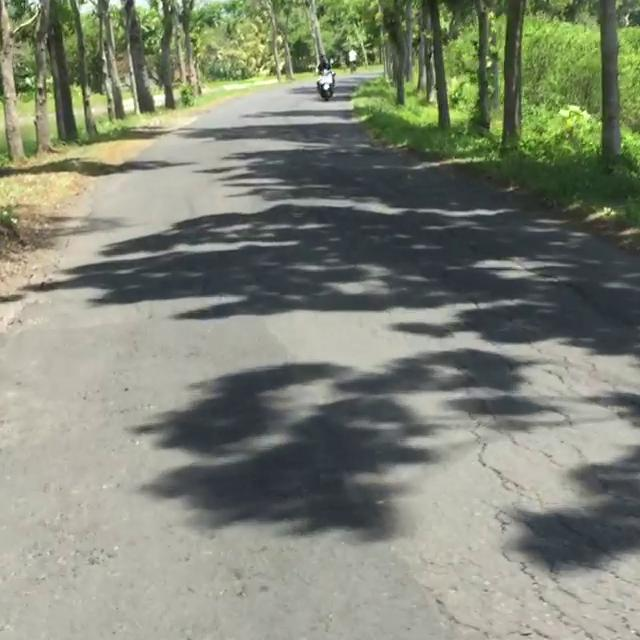retak_kulit_buaya: (424, 348, 640, 640)
